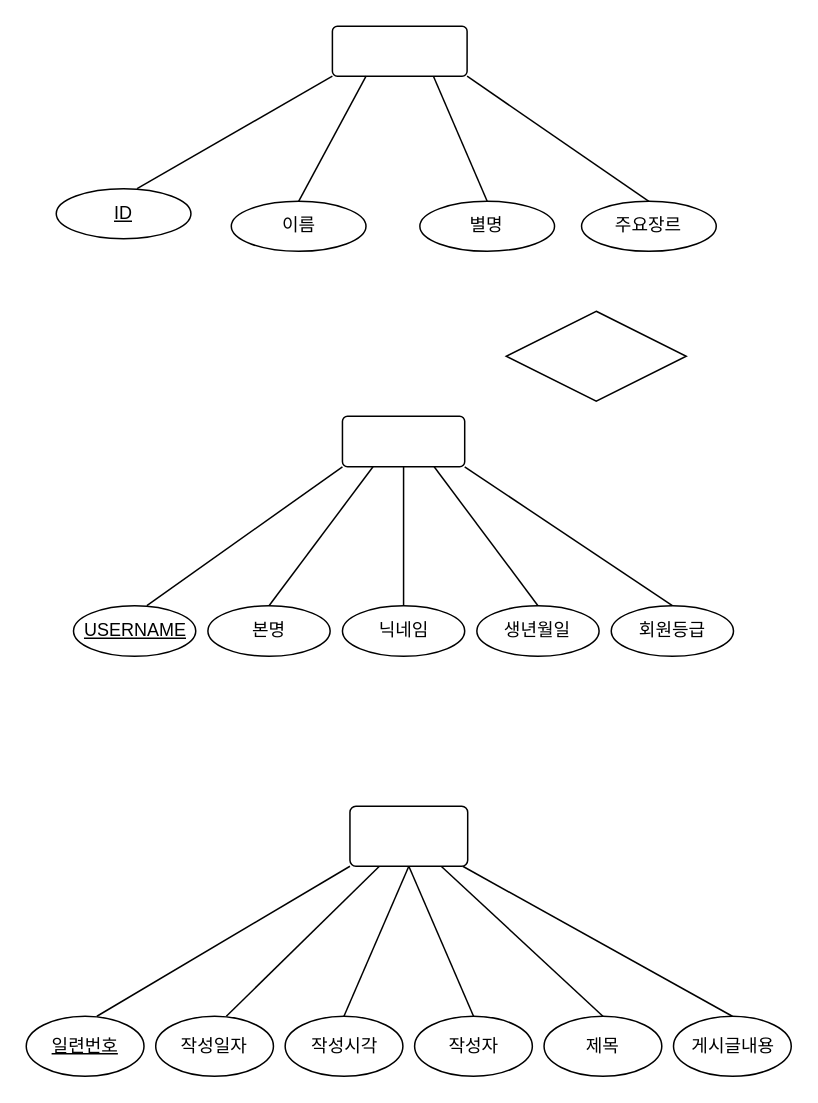
This 818x1103 diagram has some shape labels left out. The shapes that lost their labels are listed below. From the top down, each one's centre as x and y in pixels, then its label:
At (x=399, y=50): "Artist".
At (x=595, y=355): "Relationship".
At (x=403, y=441): "사용자(USER)".
At (x=408, y=835): "게시판".
